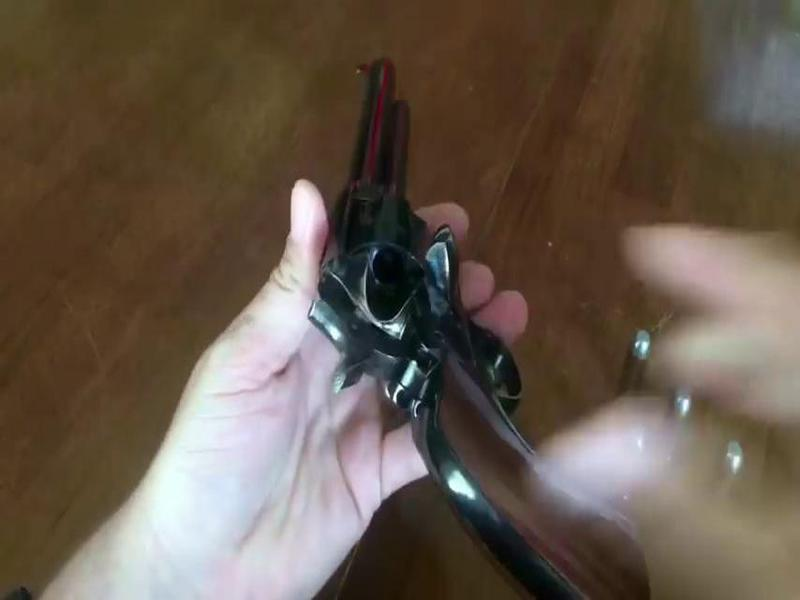Revolver: (310, 24, 625, 573)
